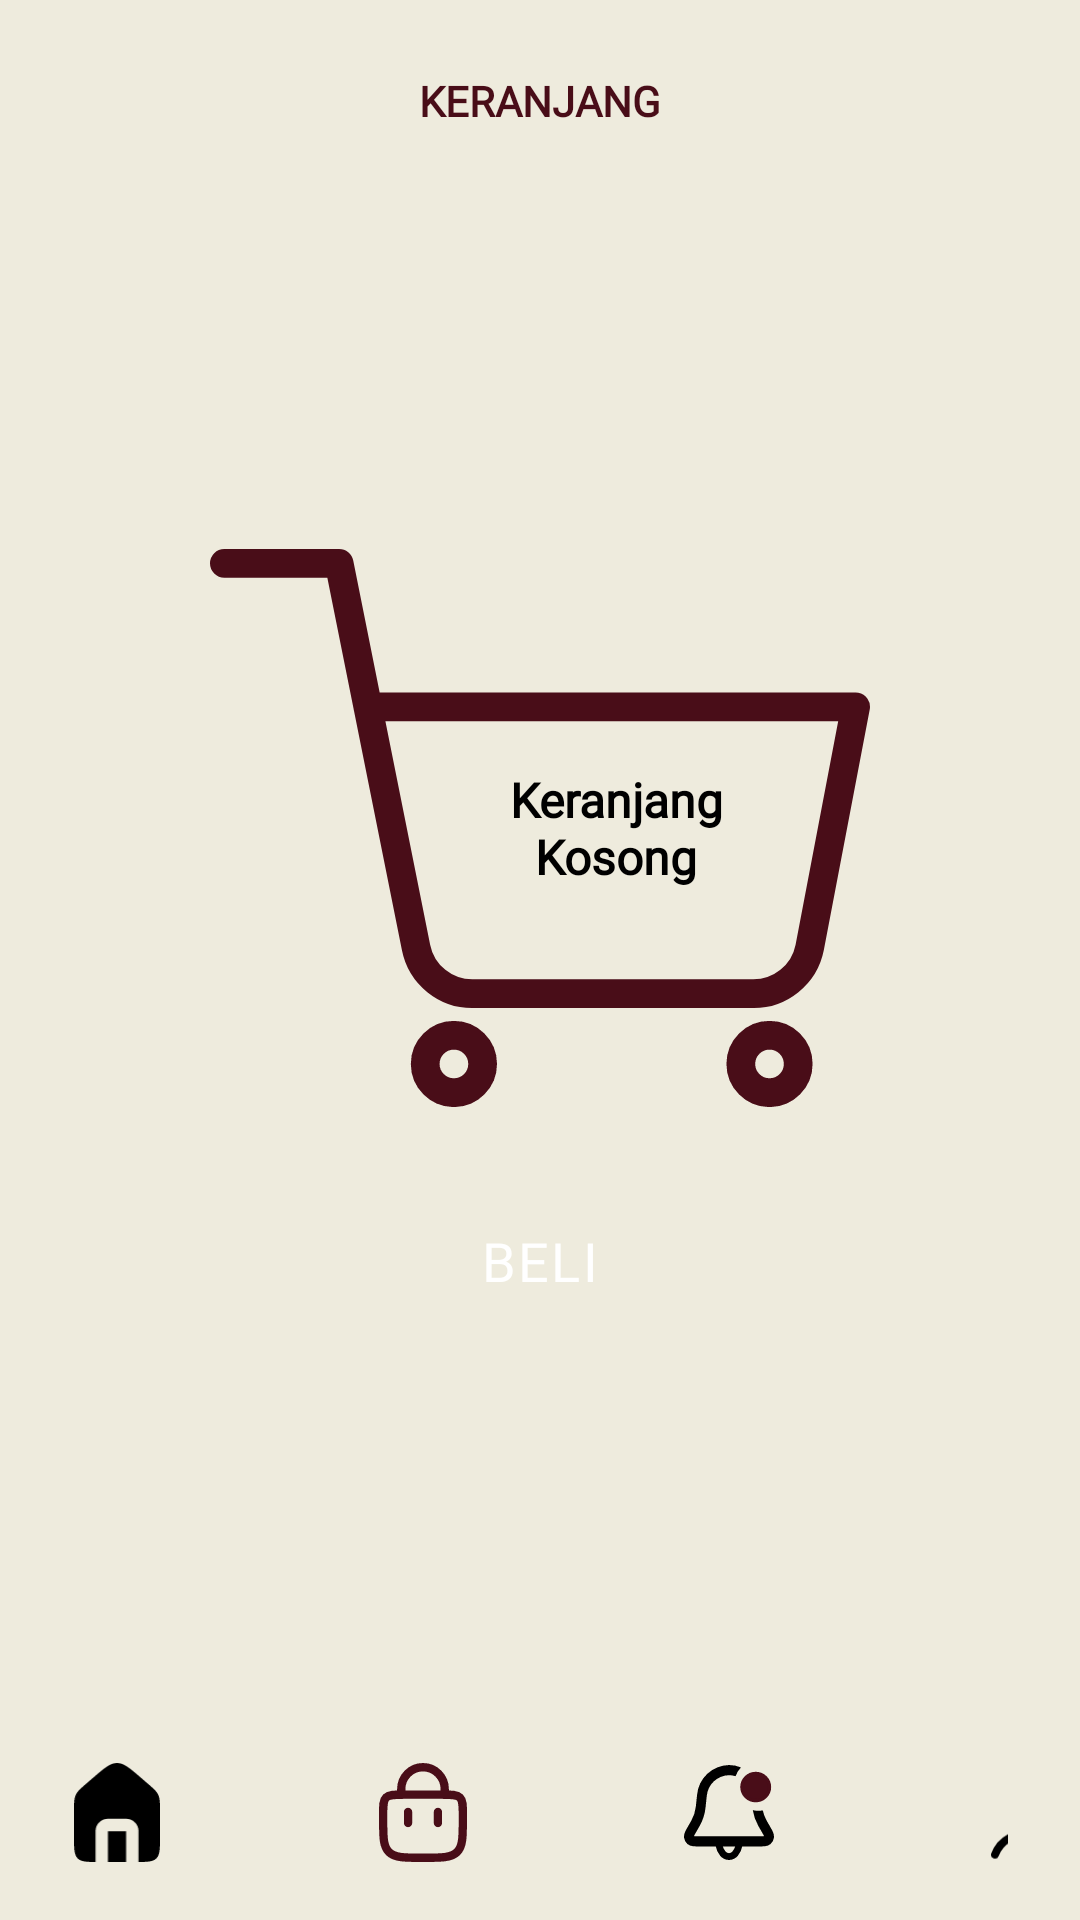

Locate icon controls on the screen. Image size 1080px×1920px, boxes as bbox(x1, y1, x2, y2).
home: bbox(74, 1763, 160, 1862)
notification: bbox(684, 1765, 774, 1860)
